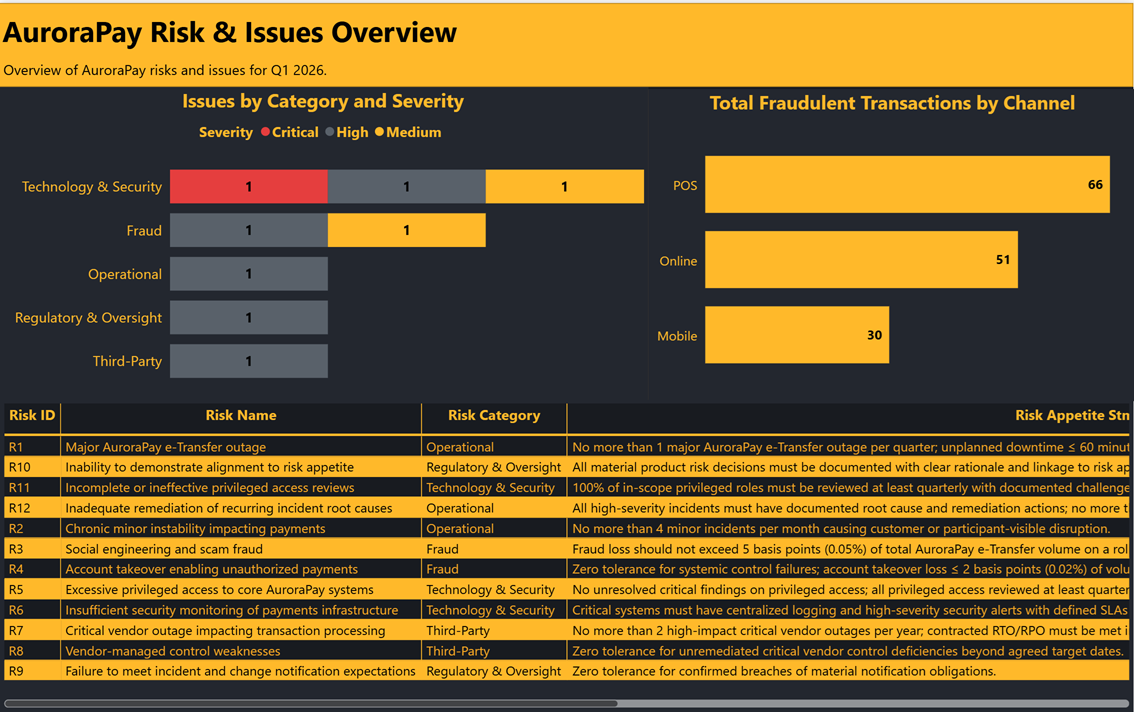

What the dashboard file says about the page in this screenshot:
{"tool":"powerbi","page":{"name":"Risk & Issues","canvas":[1280,800],"ordinal":1},"visuals":[{"type":"shape","title":"Title_Shape","box":[0,0,1280,94.7],"z":0,"group":"g3"},{"type":"shape","title":"Middle_Row_Shape","box":[0,97,1280,350.7],"z":0,"group":"g2"},{"type":"group","id":"g1","title":"Bottom_Group","box":[0,439.8,1280,359.8],"z":0},{"type":"shape","title":"Bottom_Row_Shape","box":[0,439.8,1280,359.8],"z":0,"group":"g1"},{"type":"clusteredBarChart","title":"Total Fraudulent Transactions by Channel","fields":{"Category":["kri_txn_by_channel.channel"],"Y":["Sum(kri_txn_by_channel.fraud_txn)"]},"box":[733,96.7,550.3,351.9],"z":500,"group":"g2"},{"type":"textbox","title":"Subtitle_ Textbox","box":[1.1,58.6,898.8,36.1],"z":1000,"group":"g3"},{"type":"group","id":"g2","title":"Middle_Group","box":[0,94.7,1283.4,354.1],"z":1000},{"type":"barChart","title":"Issues by Category and Severity","fields":{"Category":["issues_by_category.risk_category"],"Y":["Sum(issues_by_category.issue_count)"],"Series":["issues_by_category.severity"]},"box":[0,94.7,733,354.1],"z":1000,"group":"g2"},{"type":"tableEx","fields":{"Values":["kri_by_risk.risk_id","kri_by_risk.risk_name","kri_by_risk.risk_category","kri_by_risk.risk_appetite_statement","Sum(kri_by_risk.total_incidents)","Sum(kri_by_risk.critical_high_incidents)","Sum(kri_by_risk.high_critical_issues)"]},"box":[1.1,446.6,1278.9,353],"z":1000,"group":"g1"},{"type":"group","id":"g3","title":"Title_Group","box":[0,0,1280,94.7],"z":2000},{"type":"textbox","title":"Title_ Textbox","box":[0,4.5,898.8,54.1],"z":2000,"group":"g3"}]}

Visuals, with their boxes in screenshot pixels (x1, y1, x2, y2), scaled from the page's 1280x800 canvas onto the 1134x712 screenshot:
"Title_Shape" shape: {"x1": 0, "y1": 0, "x2": 1133, "y2": 84}
"Middle_Row_Shape" shape: {"x1": 0, "y1": 86, "x2": 1133, "y2": 398}
"Bottom_Group" group: {"x1": 0, "y1": 391, "x2": 1133, "y2": 711}
"Bottom_Row_Shape" shape: {"x1": 0, "y1": 391, "x2": 1133, "y2": 711}
"Total Fraudulent Transactions by Channel" clusteredBarChart: {"x1": 649, "y1": 86, "x2": 1133, "y2": 399}
"Subtitle_ Textbox" textbox: {"x1": 1, "y1": 52, "x2": 797, "y2": 84}
"Middle_Group" group: {"x1": 0, "y1": 84, "x2": 1133, "y2": 399}
"Issues by Category and Severity" barChart: {"x1": 0, "y1": 84, "x2": 649, "y2": 399}
tableEx - kri_by_risk.risk_id x kri_by_risk.risk_name: {"x1": 1, "y1": 397, "x2": 1133, "y2": 711}
"Title_Group" group: {"x1": 0, "y1": 0, "x2": 1133, "y2": 84}
"Title_ Textbox" textbox: {"x1": 0, "y1": 4, "x2": 796, "y2": 52}
